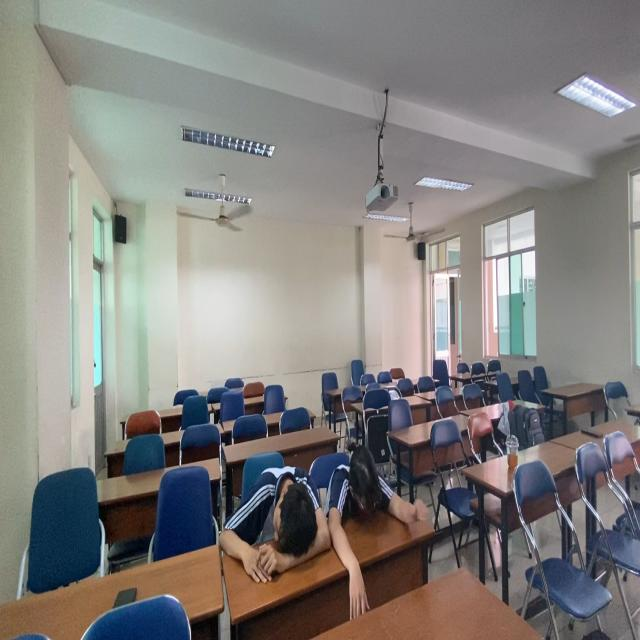sleep: (211, 461, 331, 573), (325, 452, 436, 534)
